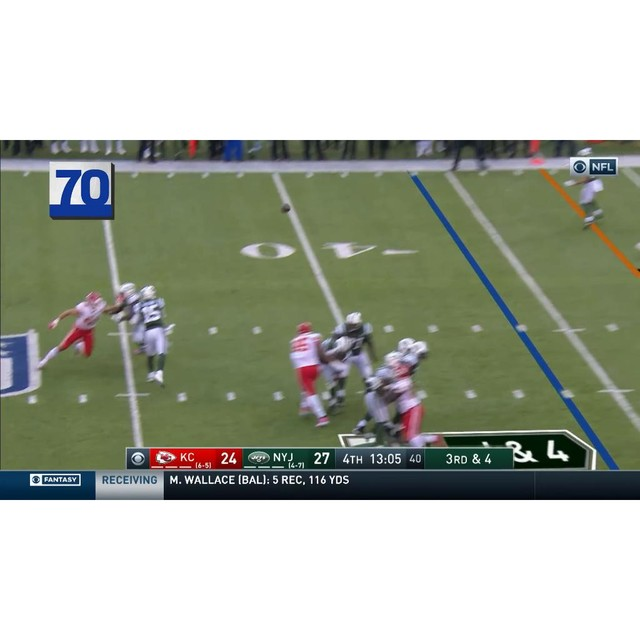american-football-player: (44, 291, 110, 371), (288, 320, 332, 425), (133, 286, 176, 386), (383, 367, 435, 446), (352, 362, 395, 438), (319, 330, 358, 409), (570, 146, 607, 229), (109, 281, 147, 354), (387, 336, 429, 376)
